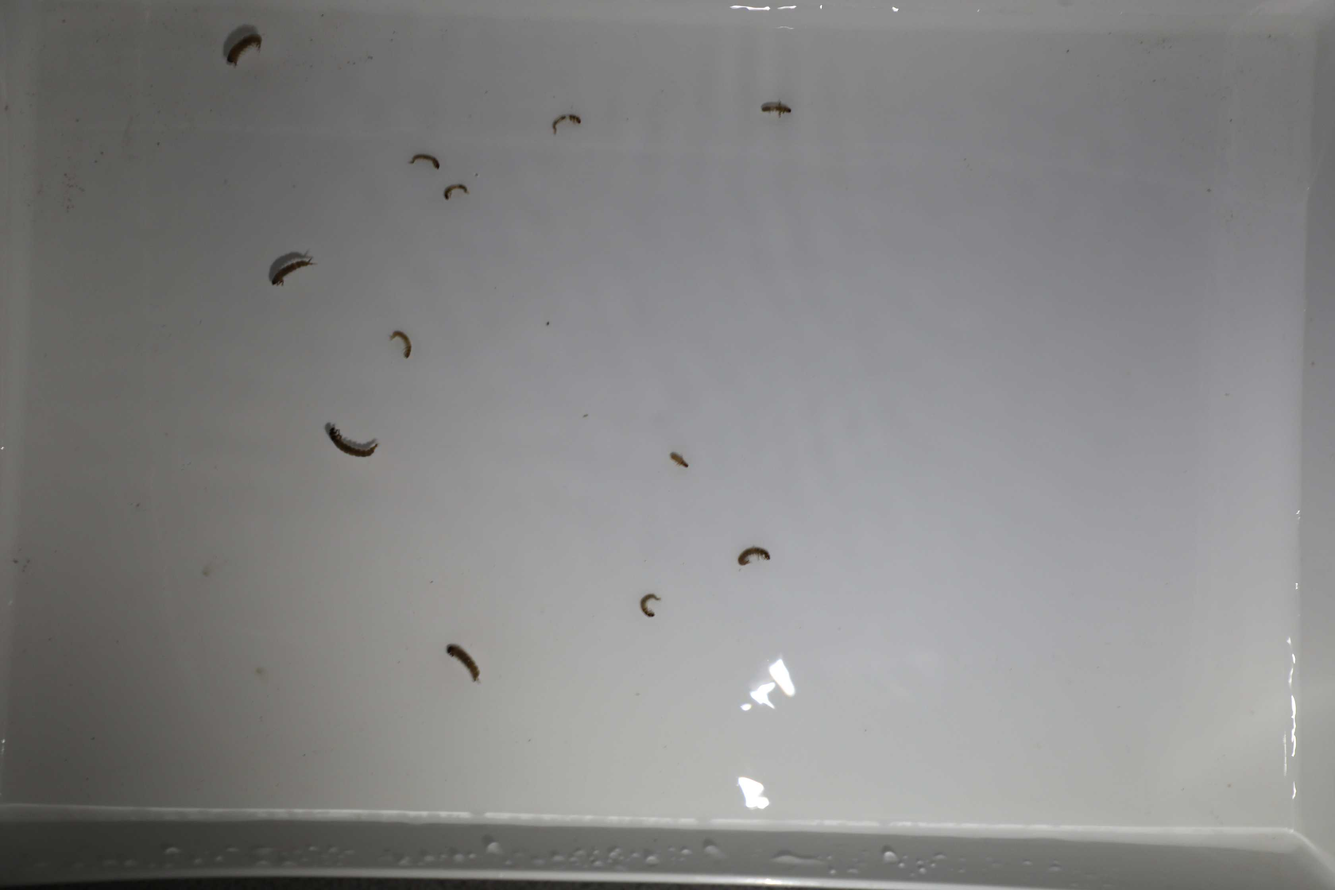Cadisfly: (325, 421, 378, 457), (225, 25, 264, 73), (269, 248, 312, 287), (446, 644, 482, 685), (403, 149, 446, 173), (756, 97, 794, 121), (735, 545, 769, 570), (637, 591, 662, 623), (548, 111, 581, 135), (667, 447, 695, 474), (390, 329, 416, 358), (439, 182, 474, 203)
